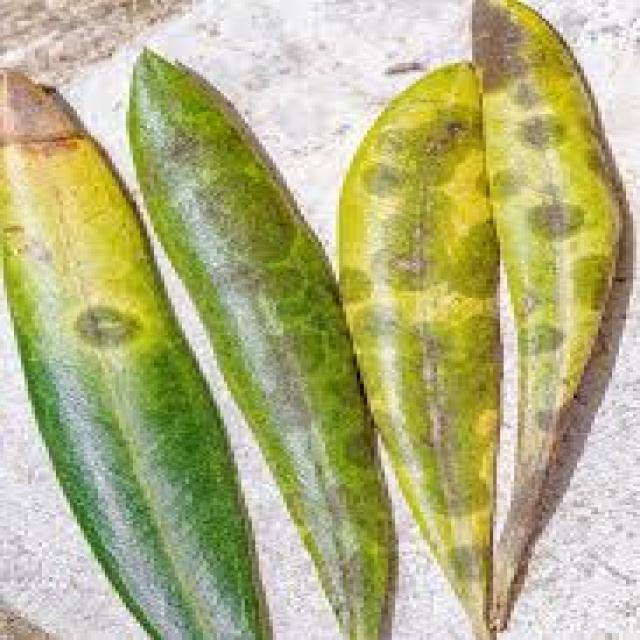Peacock Eye: (0, 72, 277, 638), (129, 49, 395, 638), (339, 63, 500, 591), (493, 9, 612, 549)
